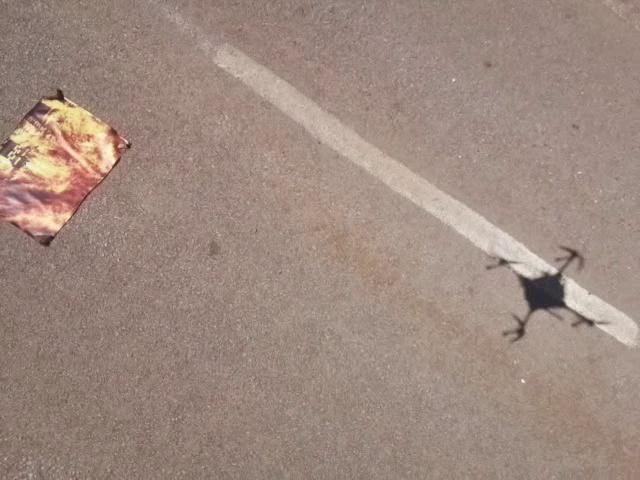fire-poster: (0, 86, 132, 248)
